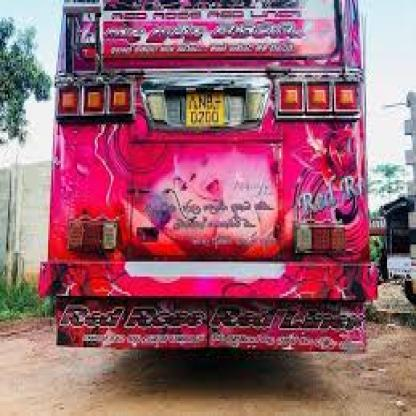bus back: (34, 2, 383, 368)
number plate: (183, 90, 224, 129)
